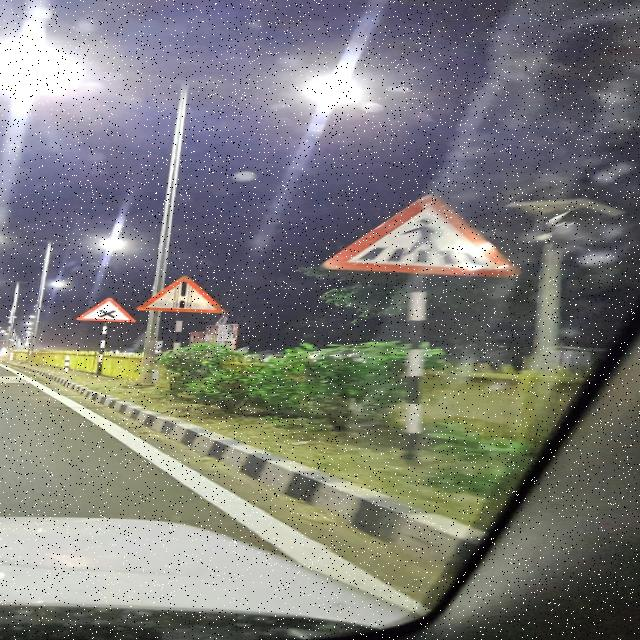Crossroads: (77, 292, 131, 326)
Pedestrain_crossing: (328, 185, 545, 292)
gap_in_median: (134, 275, 244, 321)
